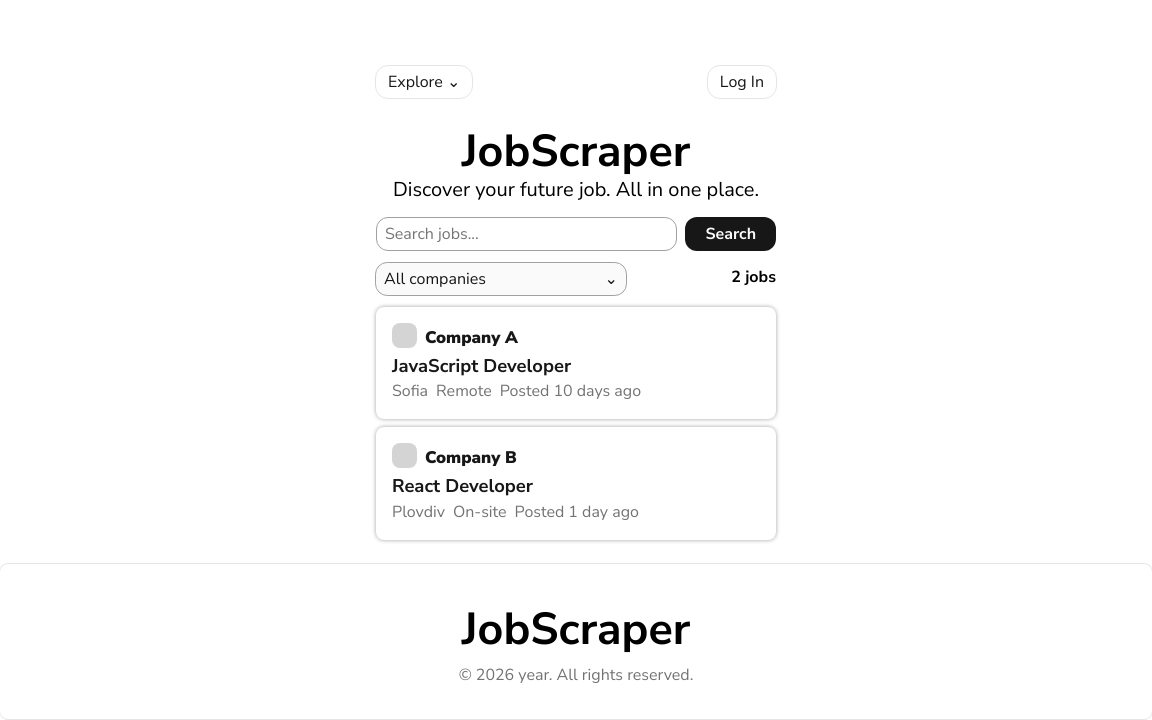
Test: render HomePage › should render no jobs if you search for it and haven't found any
Type "typescript" into the field named "query".
click(527, 234); type("typescript")  # box [376, 217, 677, 251]
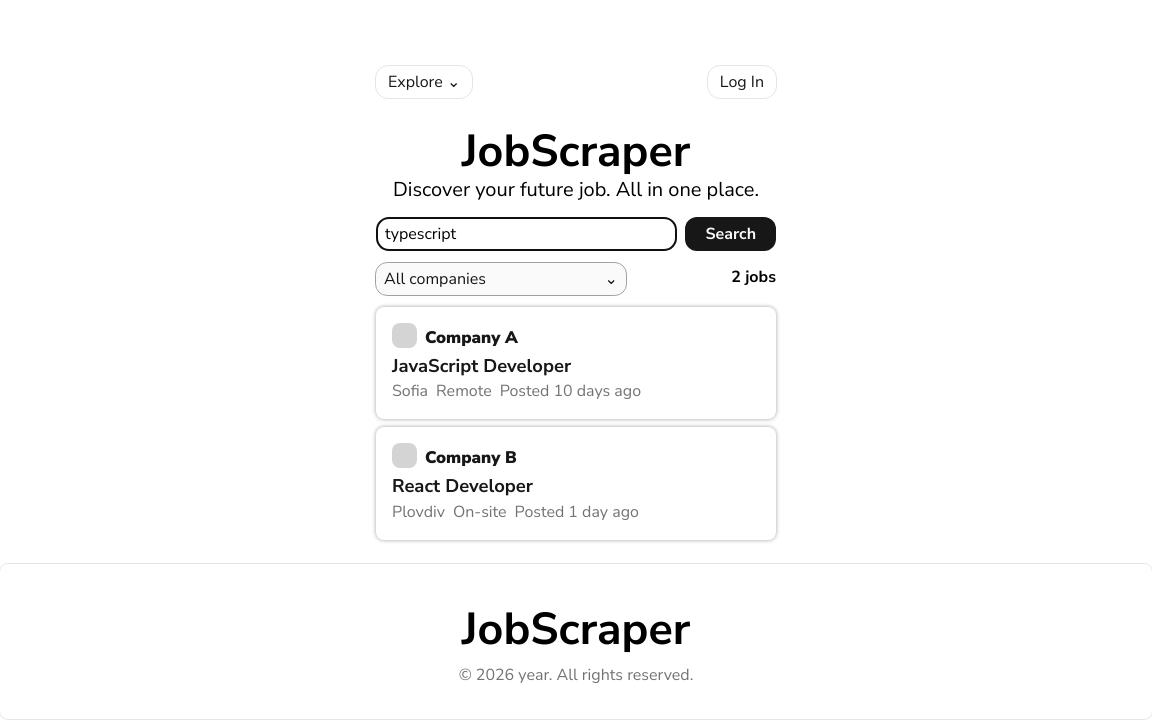
Click the button "Search".
click(731, 234)  # box [685, 217, 776, 251]
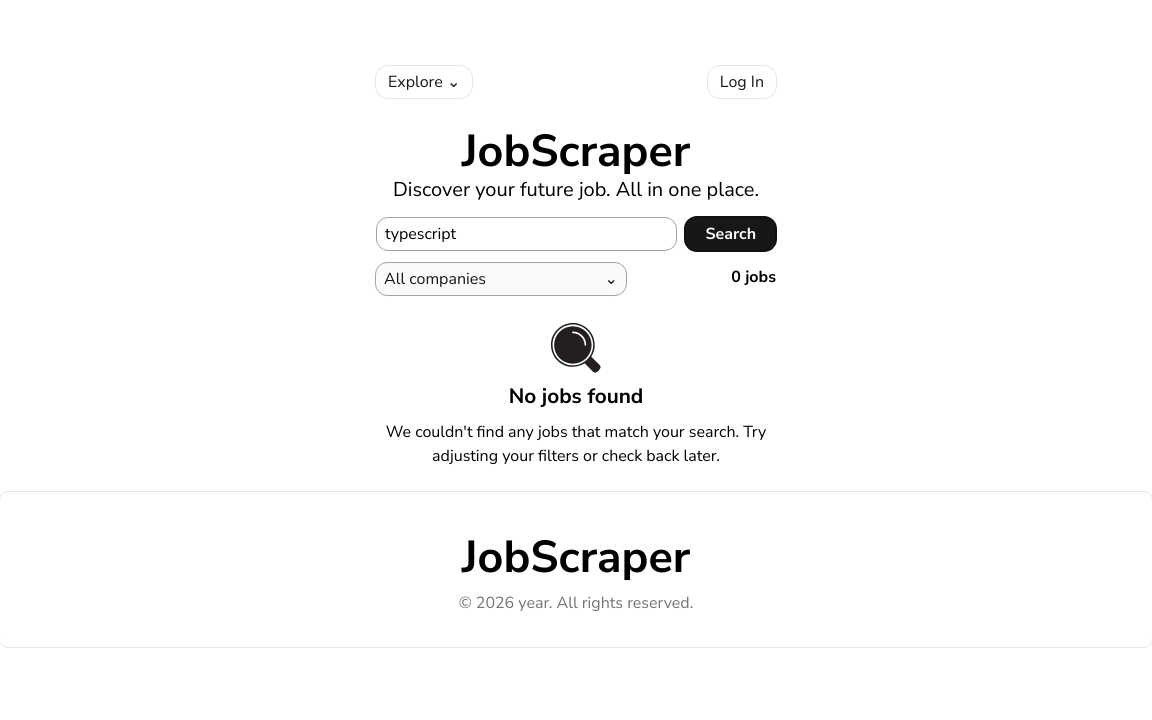
Result: the text "0" is shown at [731, 266, 741, 288]
Result: the text "No jobs found" is shown at [509, 381, 643, 412]
Result: the text "we couldn't find any jobs that match your search. Try adjusting your filters or check back later." is shown at [386, 421, 766, 467]
